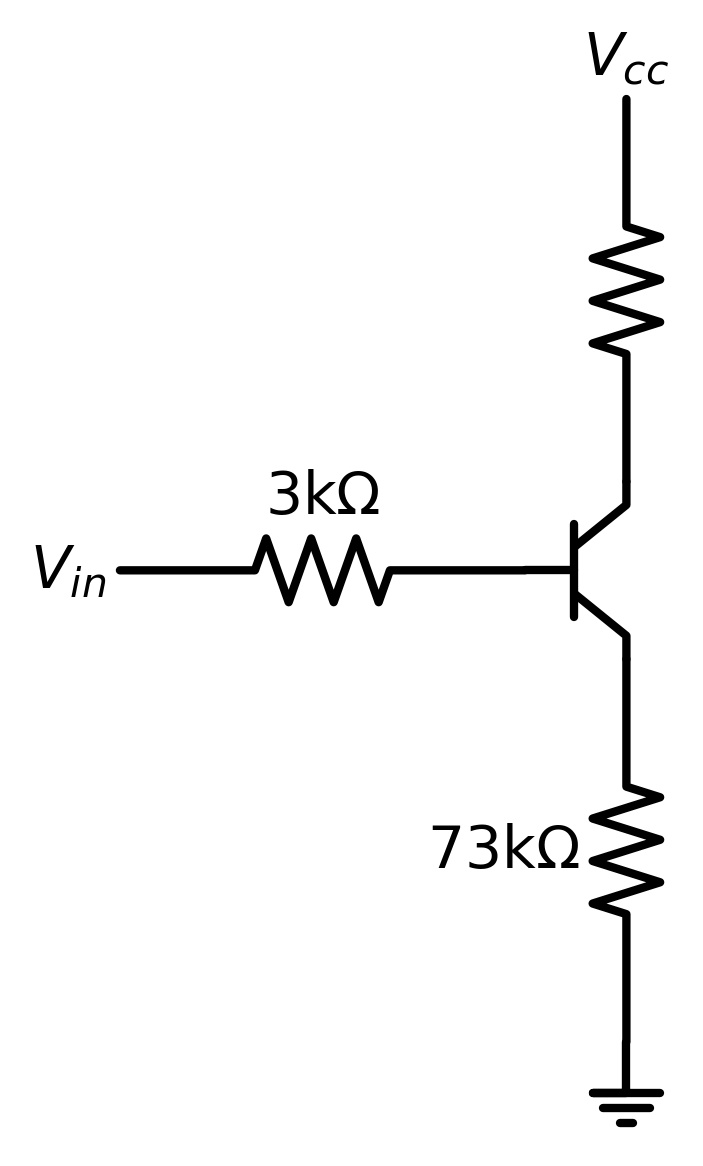bjt: (551, 477, 656, 656)
ground: (581, 1065, 672, 1148)
resistor: (577, 769, 678, 948), (568, 216, 676, 371), (244, 529, 396, 617)
